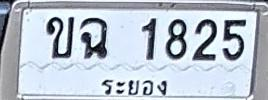1: (141, 17, 156, 60)
2: (192, 18, 217, 61)
5: (222, 19, 246, 61)
8: (165, 18, 186, 60)
A02: (46, 16, 74, 58)
A09: (80, 17, 108, 59)
RYG: (95, 75, 170, 100)
